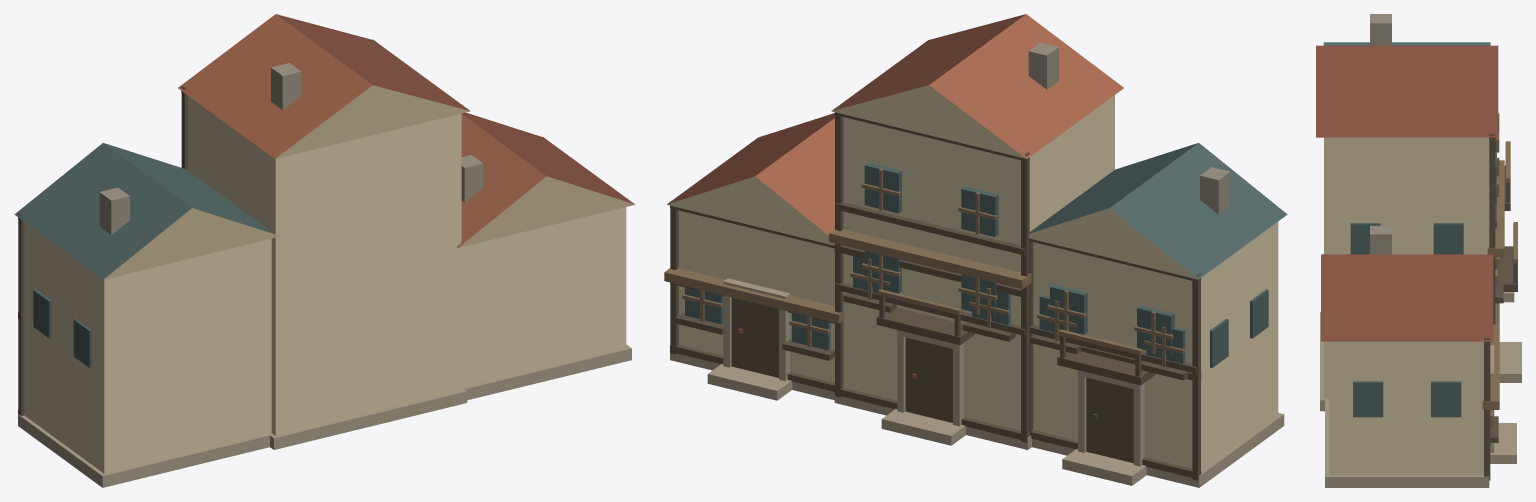
Rendered from Town_RowHousesA.fbx.
3 renders of one model, left to right at view 1: azimuth 30°, elevation 25°; view 2: azimuth 150°, elevation 25°; view 3: azimuth 270°, elevation 25°, orthographic. The views are drawn at different scales.
Visible parts, largest first — view 1: Town_RowHousesA; view 2: Town_RowHousesA; view 3: Town_RowHousesA.
Boxes of the visible parts, x1,y1,x2,y2 form: Town_RowHousesA: (14, 14, 634, 487); Town_RowHousesA: (664, 14, 1287, 487); Town_RowHousesA: (1316, 14, 1521, 487).
Bounding box in the file's own units: 11.42 × 7.11 × 4.09.
